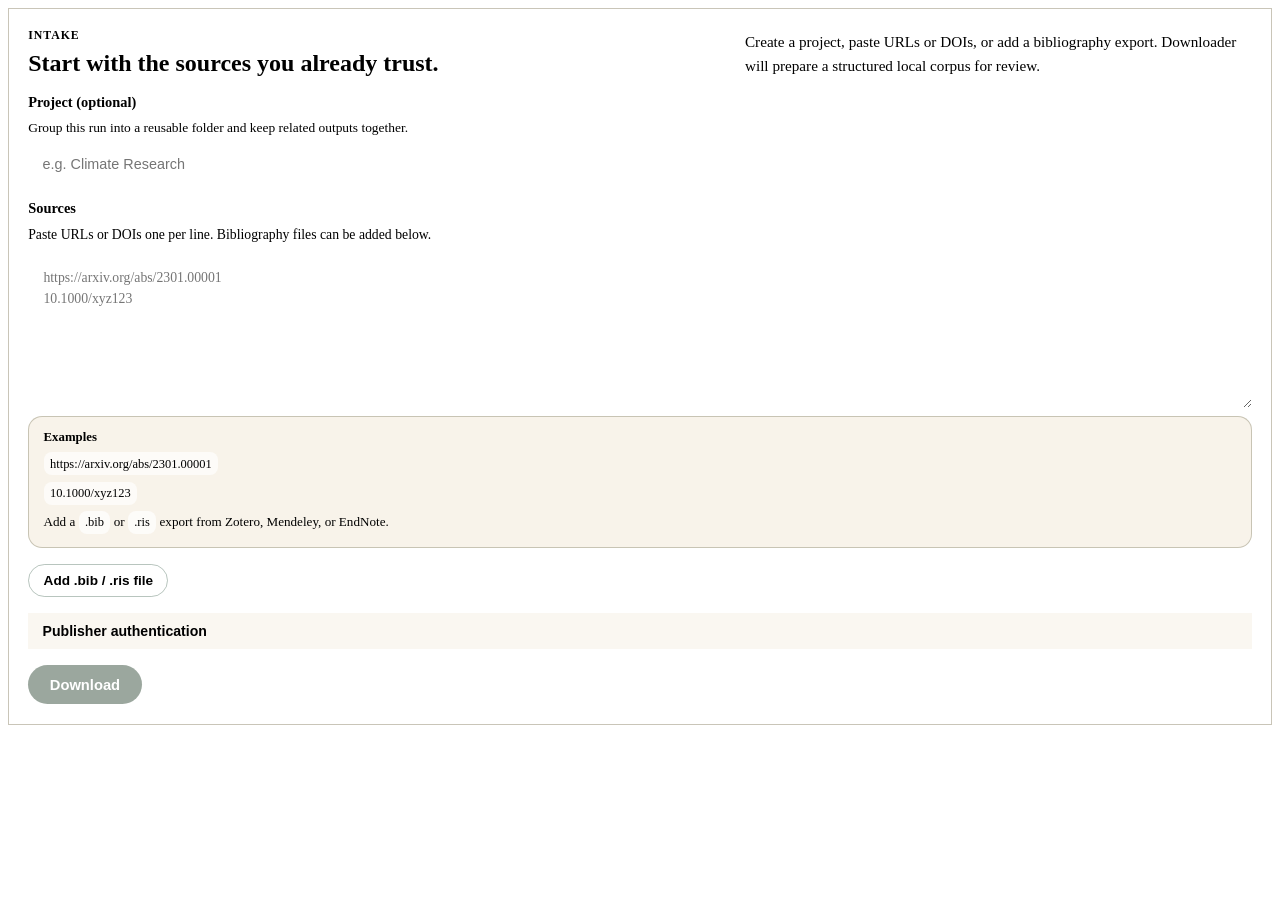
Scenario: DownloadForm › shows inline error when pick_bibliography_files rejects with an Error object
This screenshot has width=1280, height=900.
Step 1. Type "https://example.com/paper.pdf" into the text box → (640, 331), box [28, 253, 1252, 408]
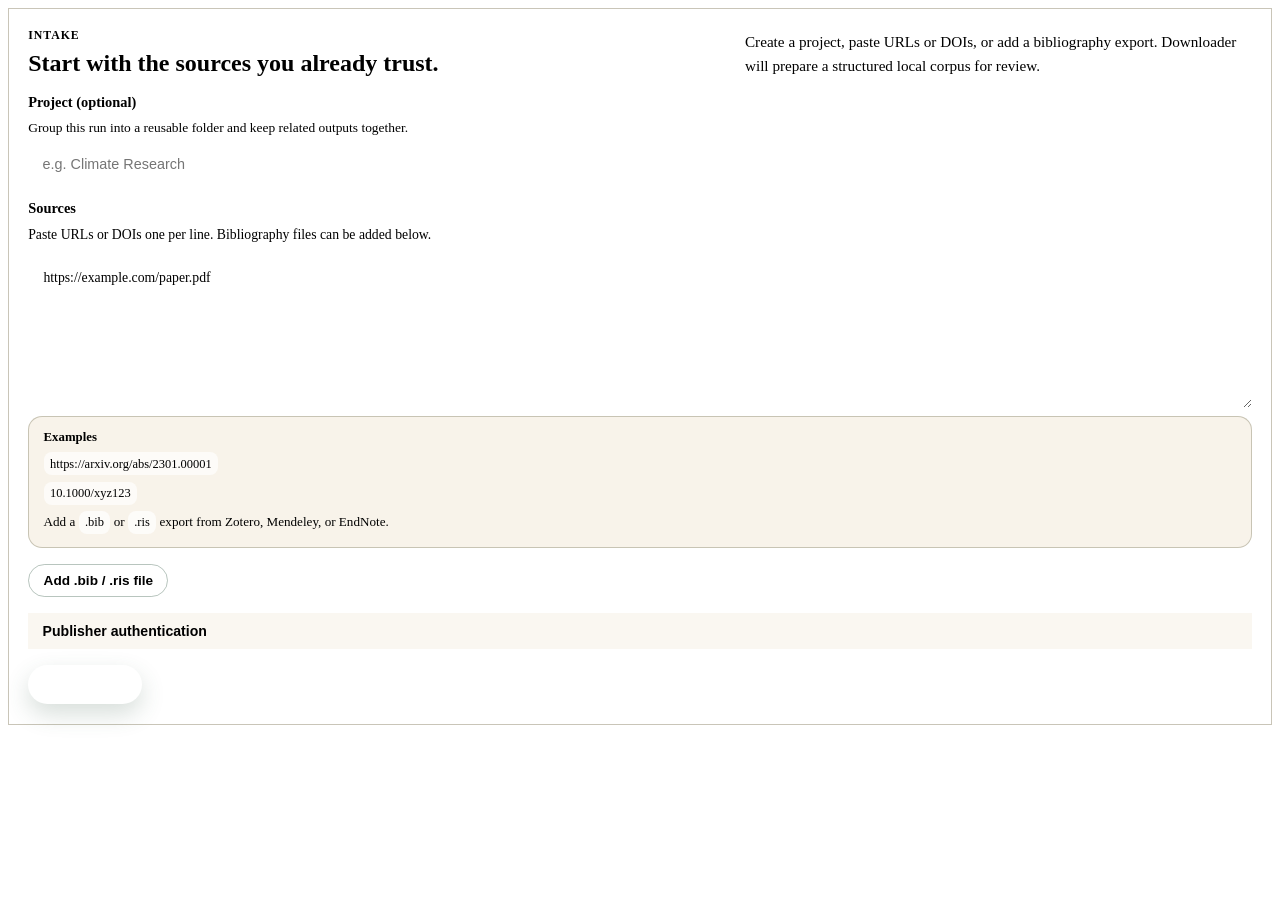
Step 2. Click the button "Add .bib / .ris file" → (98, 580), box [28, 564, 168, 597]
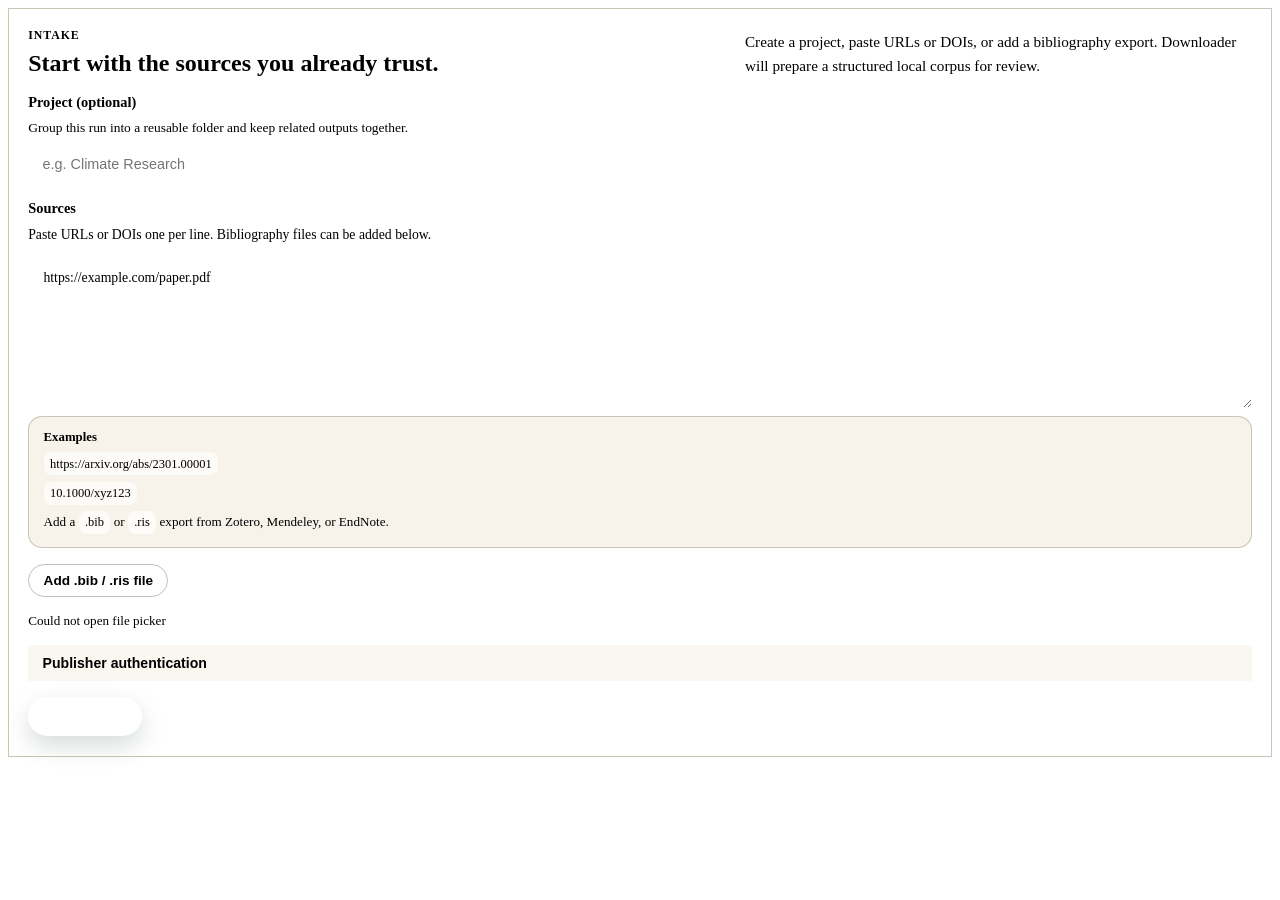
Now the button "Download" is enabled, box [28, 697, 142, 736]
Now the text "Could not open file picker" is shown, box [28, 613, 166, 628]
